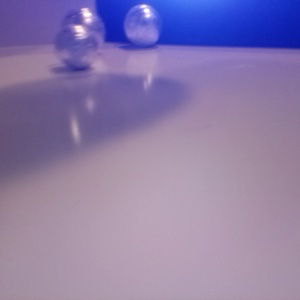alive_ball: (53, 23, 98, 69), (64, 7, 104, 51), (124, 4, 163, 47)
